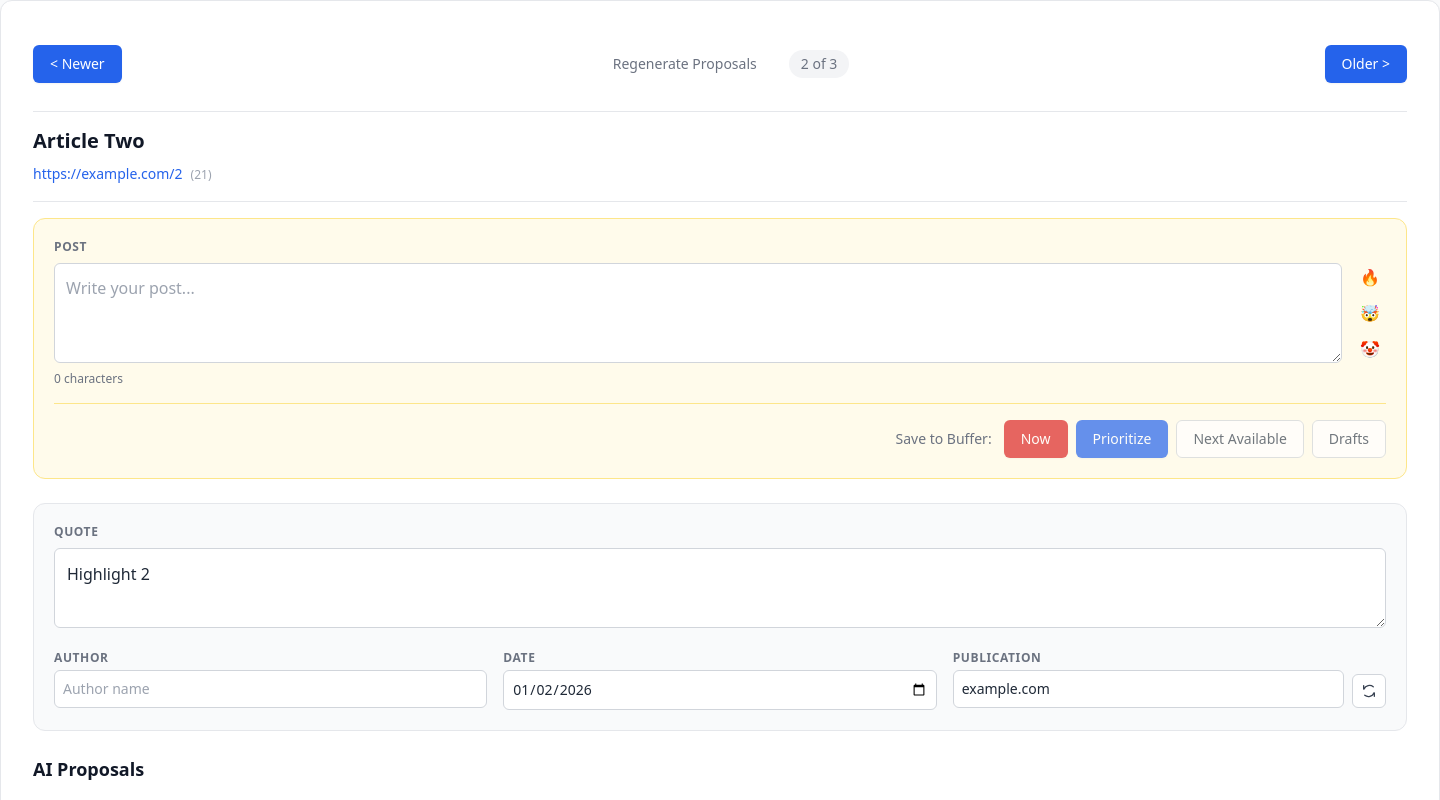
Test: PostPage — scaffold + navigation › goes back to previous article when Newer is clicked
The image size is (1440, 800).
Expected: the heading "Article Two" is shown, [33,127,145,154]
Click the button "< Newer" at (77, 64), box [33,45,122,83]
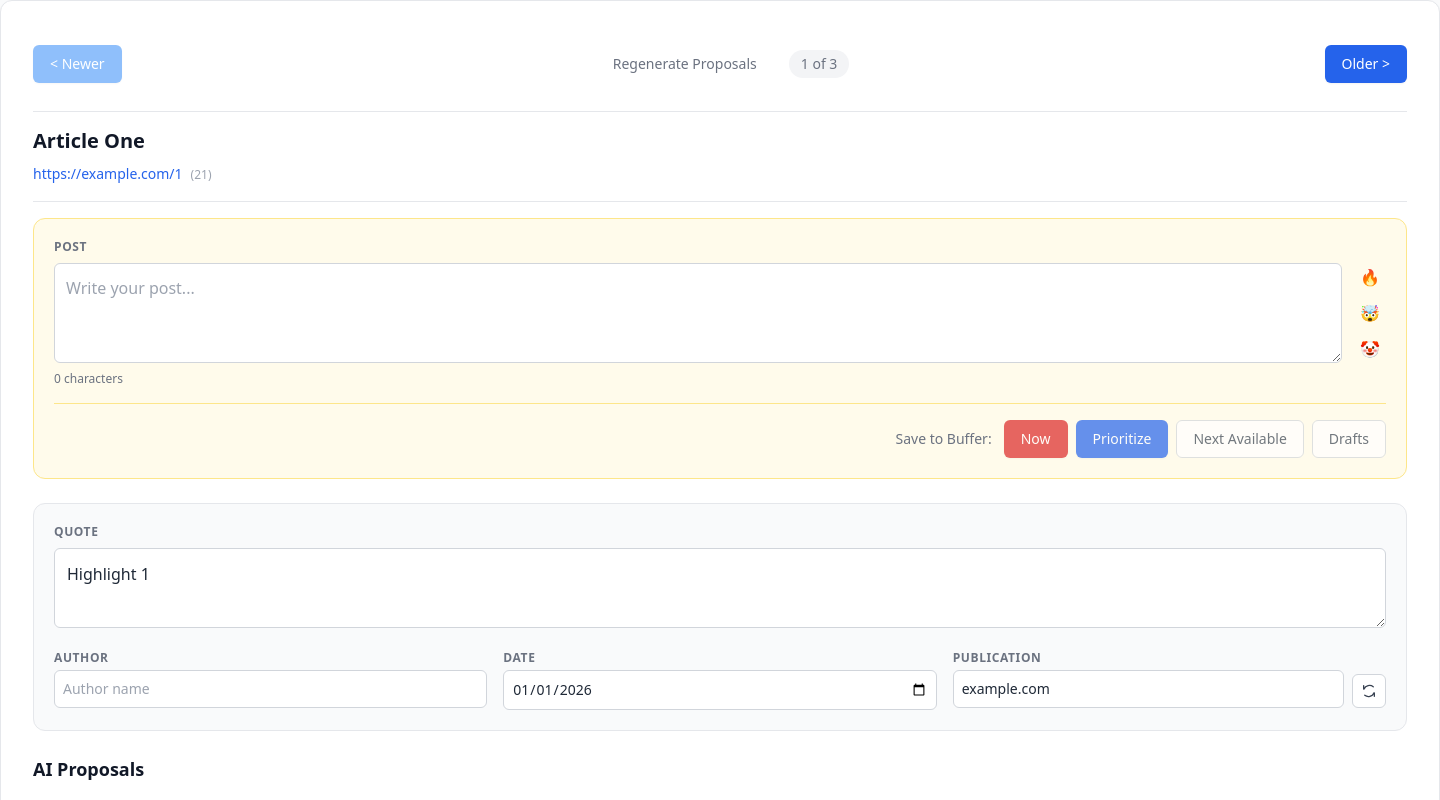
Result: the heading "Article One" is shown at [33,127,145,154]
